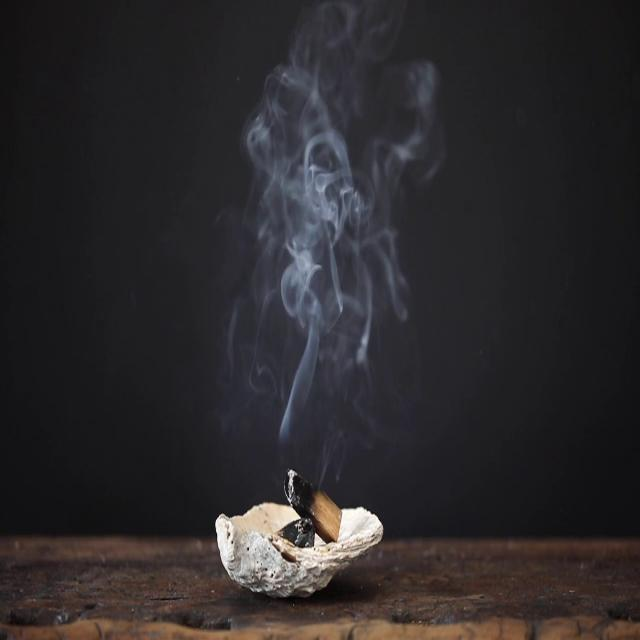Smoke: (220, 4, 450, 403)
